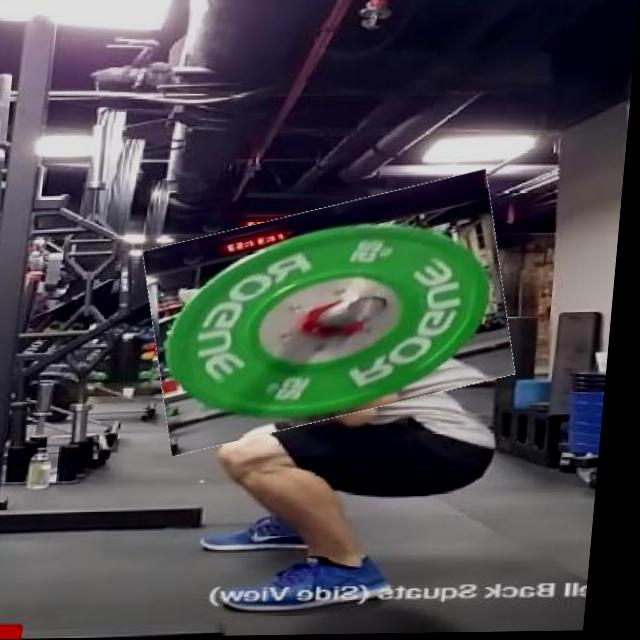barbell: (146, 189, 527, 440)
